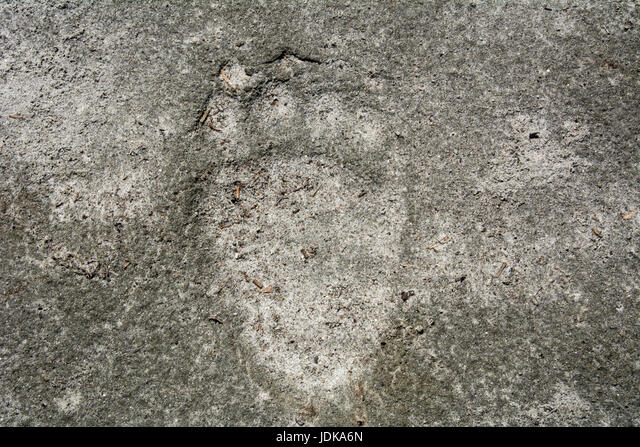bear: (166, 44, 459, 412)
